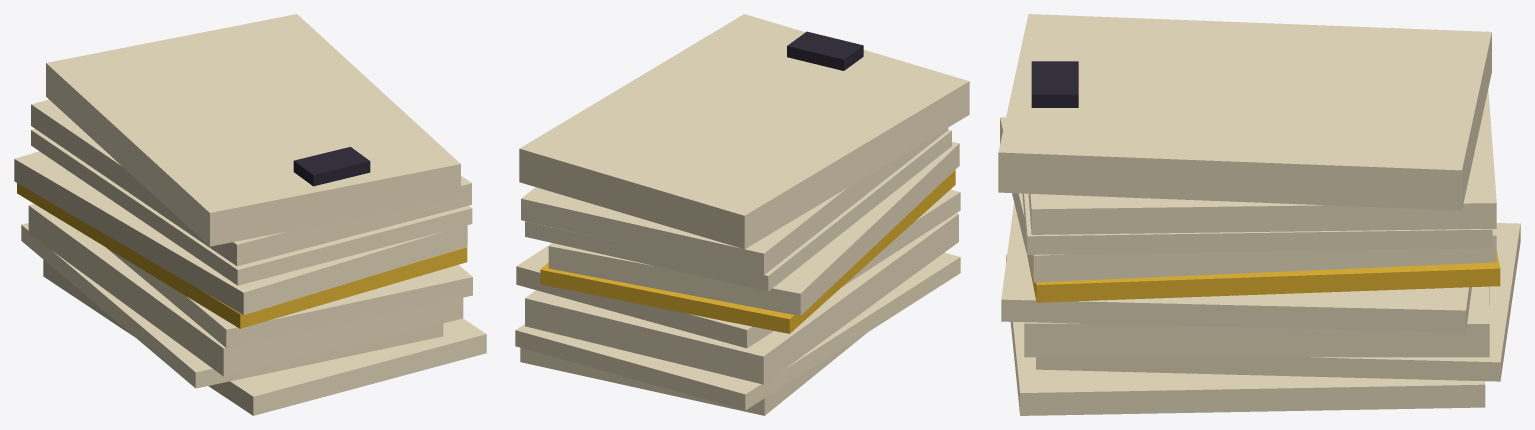
The model's file is paper-stack.glb.
3 renders of one model, left to right at view 1: azimuth 30°, elevation 25°; view 2: azimuth 150°, elevation 25°; view 3: azimuth 270°, elevation 25°, orthographic. The views are drawn at different scales.
Visible parts, largest first — view 1: Paper, Paper clip; view 2: Paper, Paper clip; view 3: Paper, Paper clip.
Part boxes in pixels (<box>): Paper: <box>14,14,486,415</box>; Paper clip: <box>293,147,370,186</box>; Paper: <box>515,14,969,415</box>; Paper clip: <box>787,31,863,70</box>; Paper: <box>998,14,1520,415</box>; Paper clip: <box>1031,61,1078,107</box>.
Size of the model in its own units: 0.2511 by 0.1808 by 0.3331.
